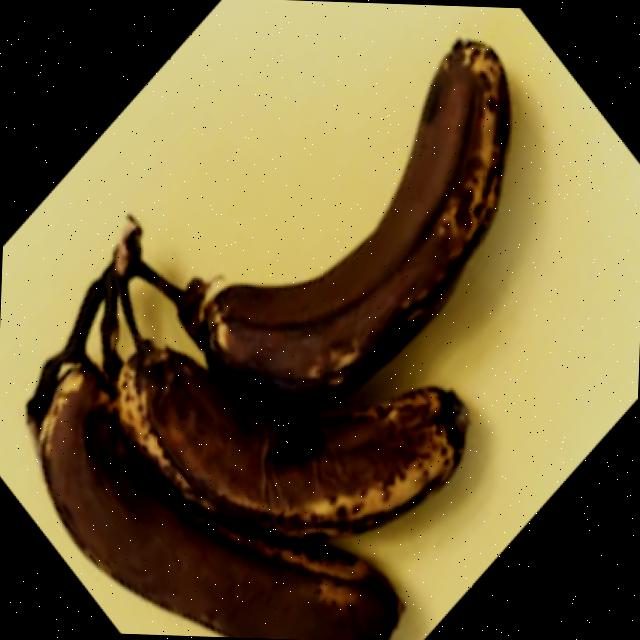Rotten: (172, 28, 510, 414), (24, 374, 407, 640)
